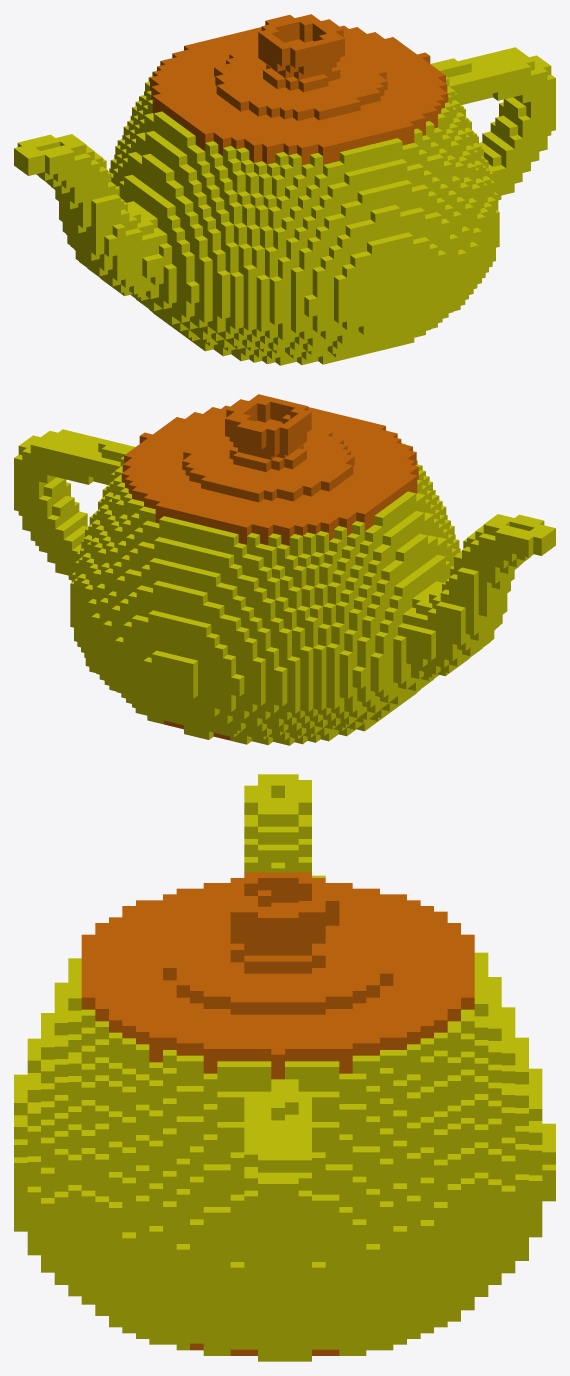
The model's file is teapot.obj.
3 renders of one model, top to bottom at view 1: azimuth 30°, elevation 25°; view 2: azimuth 150°, elevation 25°; view 3: azimuth 270°, elevation 25°, orthographic. The views are drawn at different scales.
Bounding box in the file's own units: 6.3 × 3.1 × 4.
Materials: 1 (1 with a texture image).
